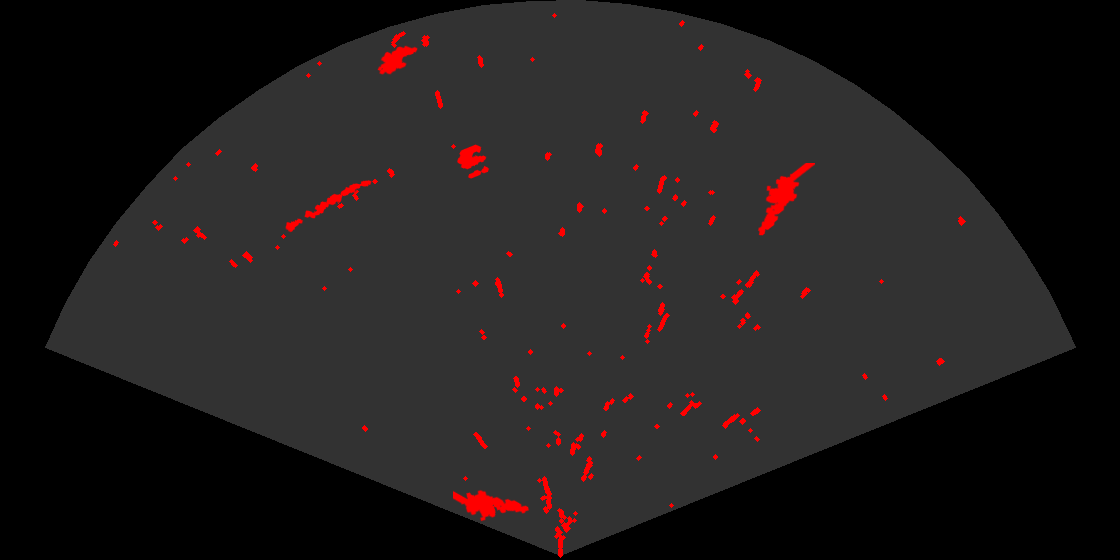AUV: (376, 44, 419, 76)
ball: (456, 143, 491, 180)
chain: (284, 179, 373, 234)
frogman: (756, 163, 815, 237), (453, 488, 531, 523)
